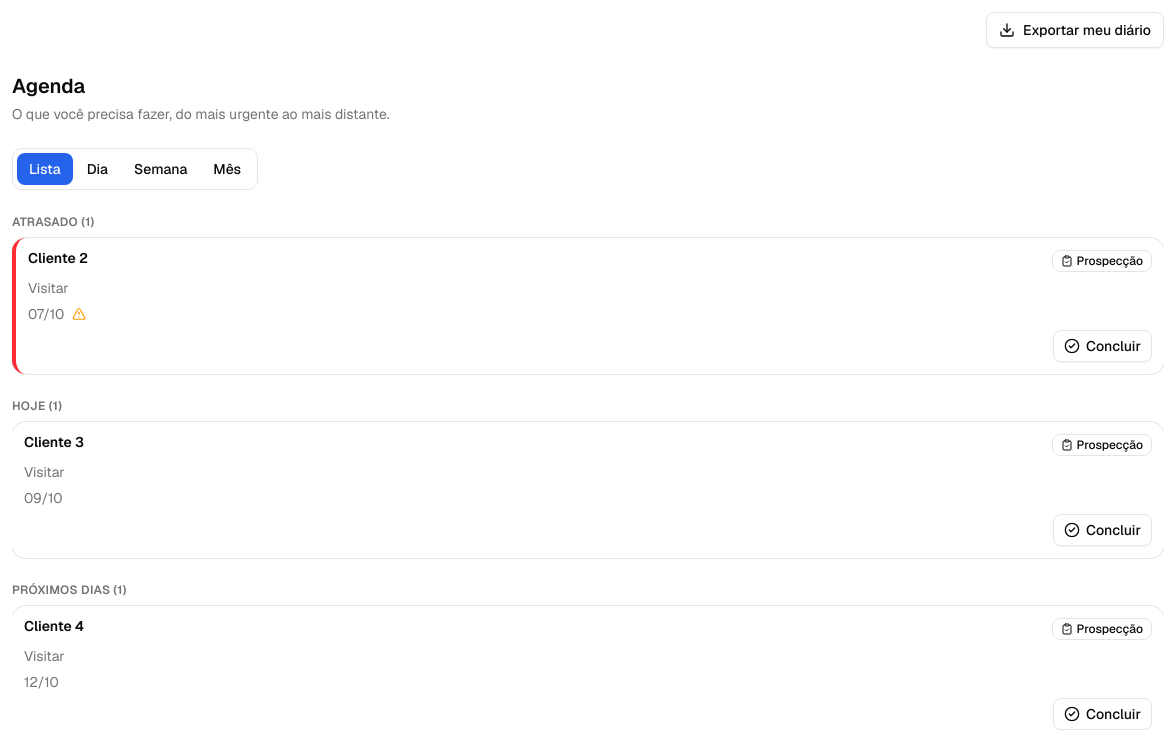
Test: AgendaList + AgendaCalendario (integração, plano 20-05) › alternância: clicar em Mês esconde as seções e mostra a grade; clicar em Lista traz as mesmas contagens de volta
The image size is (1176, 730).
Expected: the heading "Atrasado (1)" is shown, [12, 214, 95, 230]
Expected: the heading "Hoje (1)" is shown, [12, 398, 62, 414]
Click the button "Mês". click: (227, 169)
box: [201, 153, 253, 185]
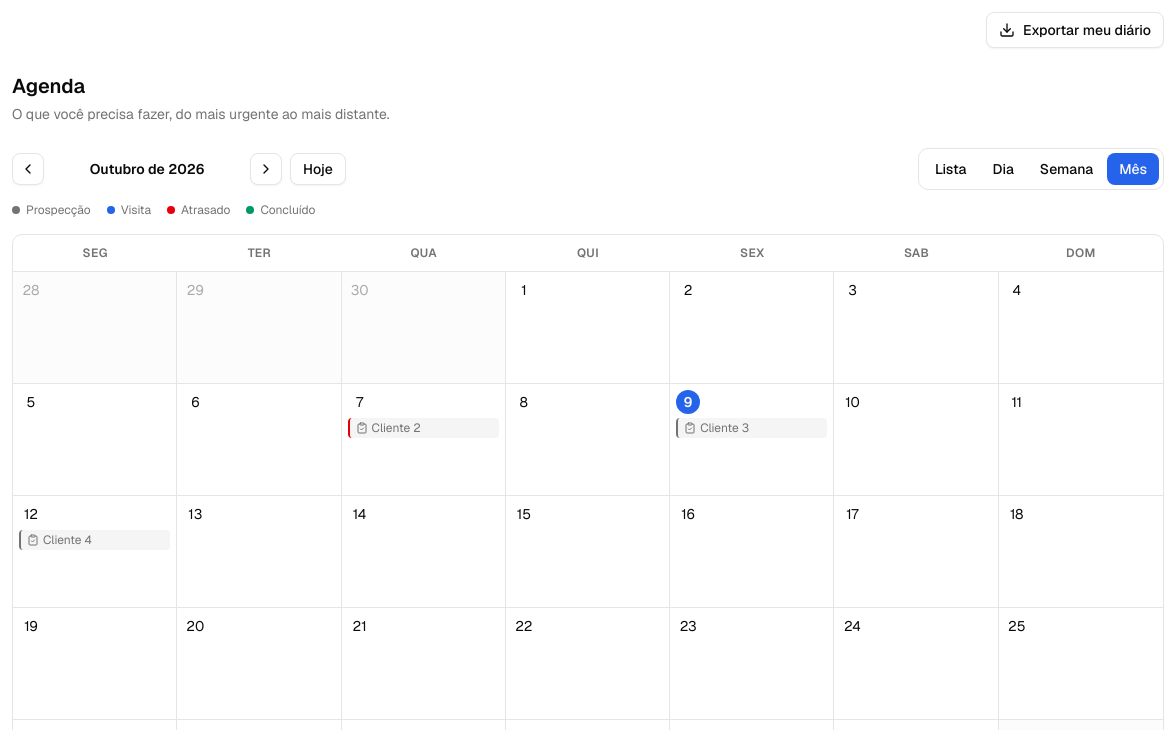
Expected: the heading "Atrasado (1)" is gone
Expected: the heading "Hoje (1)" is gone
Expected: the heading "Próximos dias (1)" is gone
Click the button "Lista". click: (951, 169)
box: [923, 153, 978, 185]
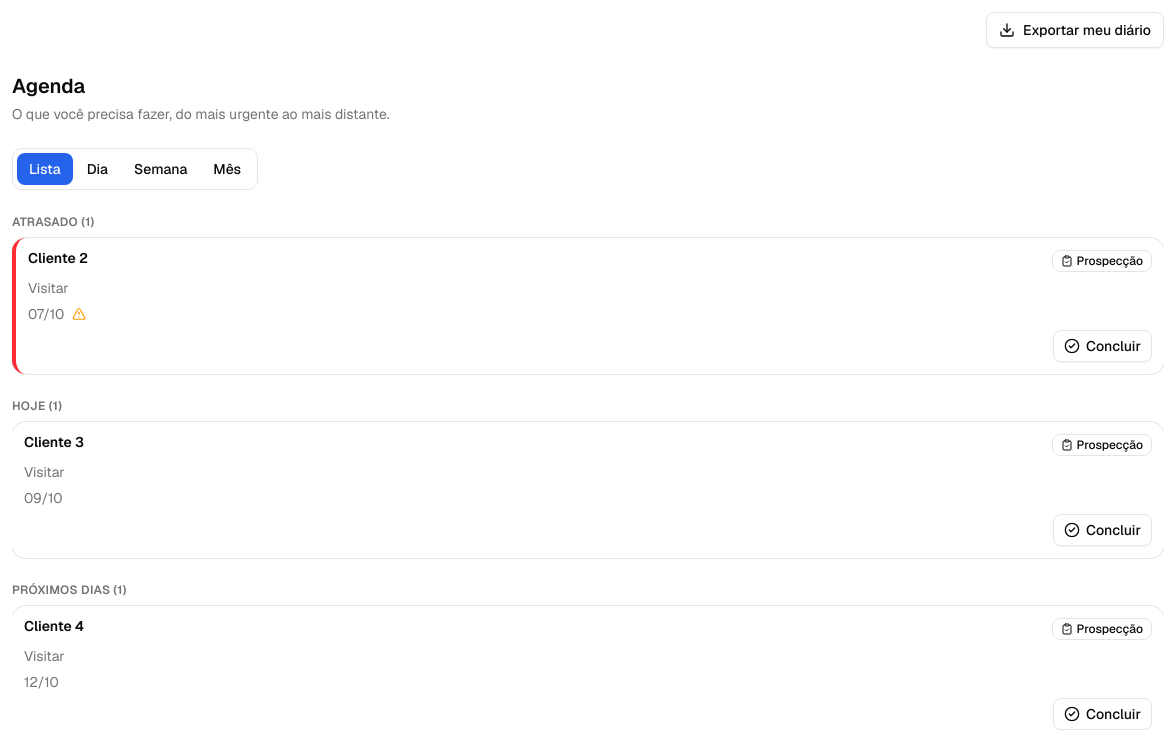
Expected: the heading "Atrasado (1)" is shown, [12, 214, 95, 230]
Expected: the heading "Hoje (1)" is shown, [12, 398, 62, 414]
Expected: the heading "Próximos dias (1)" is shown, [12, 582, 127, 598]
